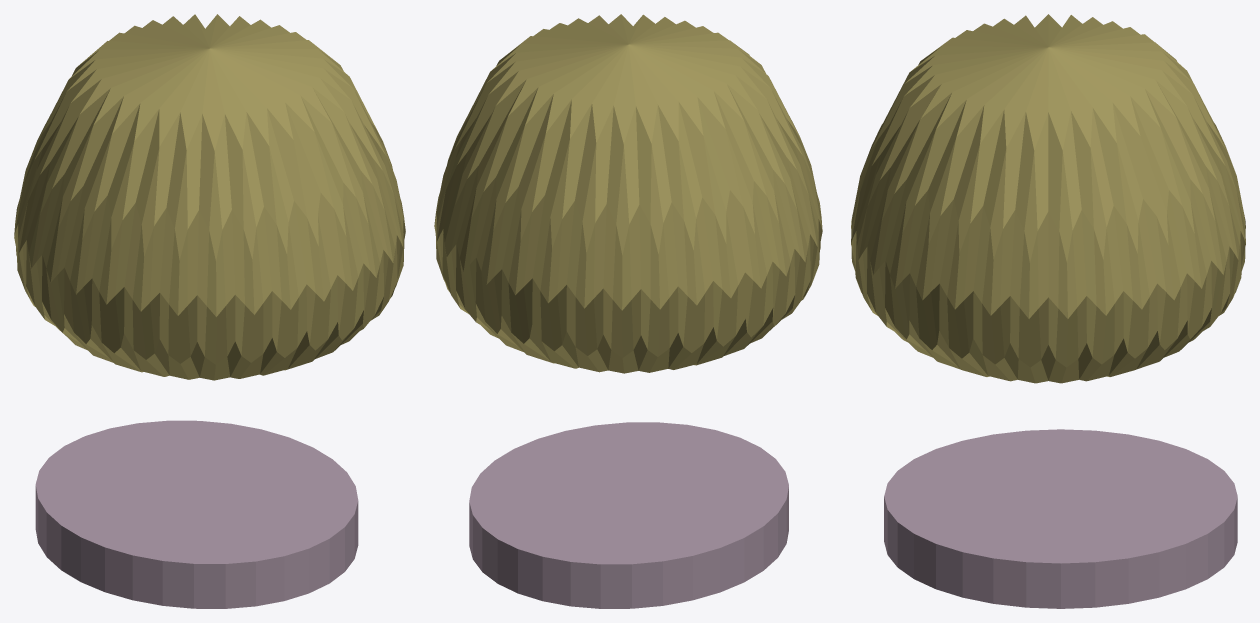
File: lamp.fbx
3 renders of one model, left to right at view 1: azimuth 30°, elevation 25°; view 2: azimuth 150°, elevation 25°; view 3: azimuth 270°, elevation 25°, orthographic. The views are drawn at different scales.
Parts seen in each view (by area): view 1: Cone, Cylinder.001; view 2: Cone, Cylinder.001; view 3: Cone, Cylinder.001.
Boxes of the visible parts, x1,y1,x2,y2 form: Cone: (14,14,405,380); Cylinder.001: (35,420,358,608); Cone: (434,14,822,373); Cylinder.001: (469,422,788,608); Cone: (851,14,1245,383); Cylinder.001: (884,429,1237,608).
Bounding box in the file's own units: 29.44 × 40.94 × 29.44.
